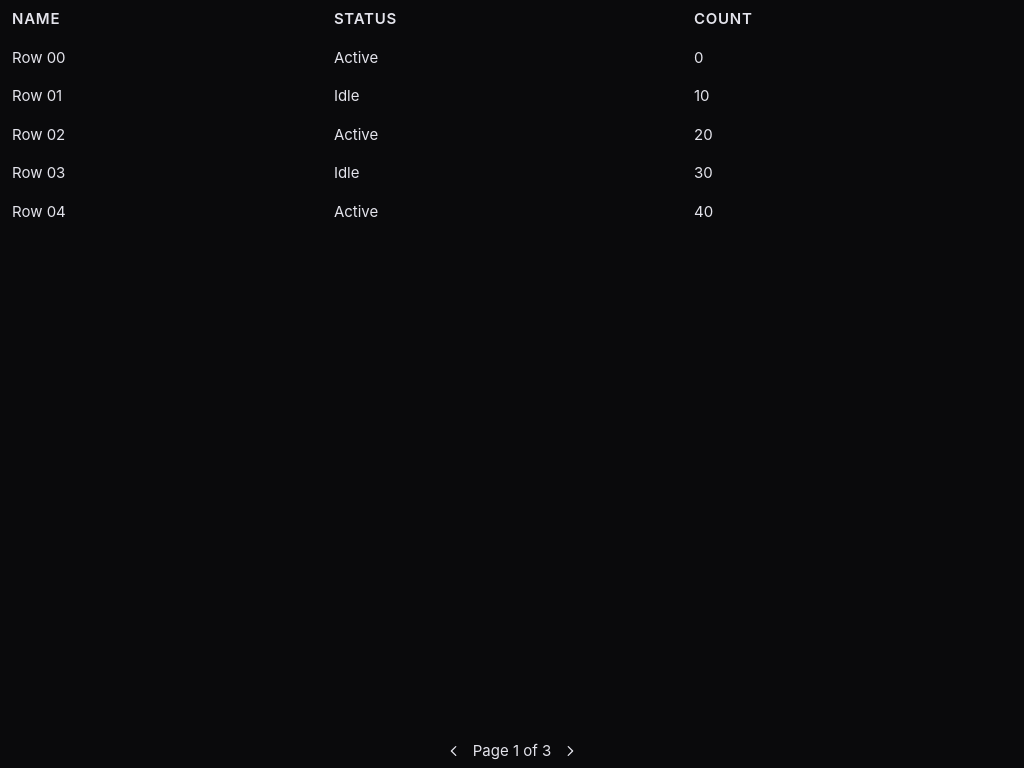
it: DataTable › pagination next/prev buttons work and disable at boundaries
Expected: the button named "previous" is disabled, [443, 740, 465, 762]
Click the button named "next".
click(570, 751)  # box [559, 740, 581, 762]
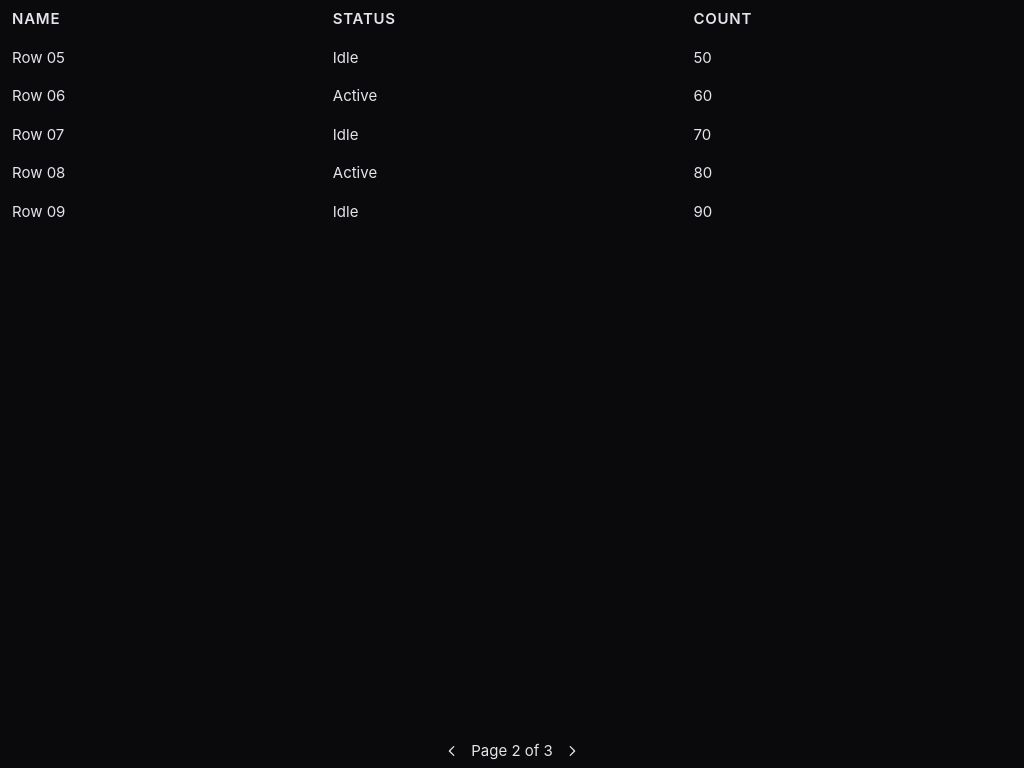
Result: the text "Page 2 of 3" is shown at [471, 740, 553, 762]
Click the button named "next".
click(572, 751)  # box [561, 740, 583, 762]
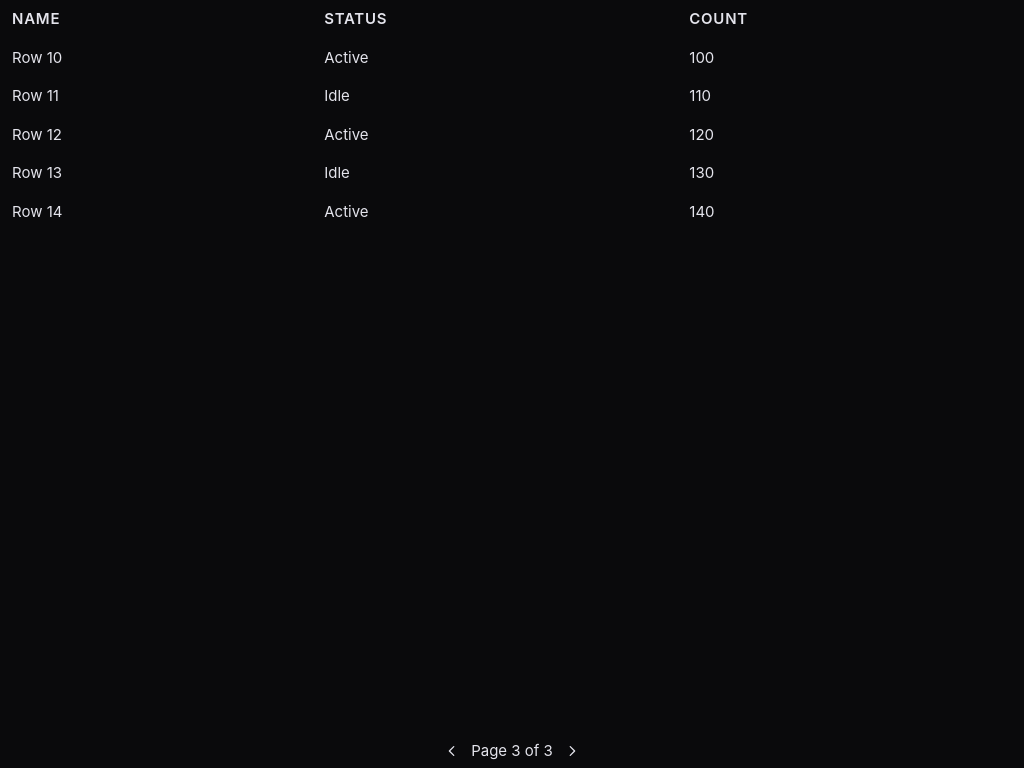
Result: the button named "previous" is enabled at [441, 740, 463, 762]
Result: the text "Page 3 of 3" is shown at [471, 740, 553, 762]
